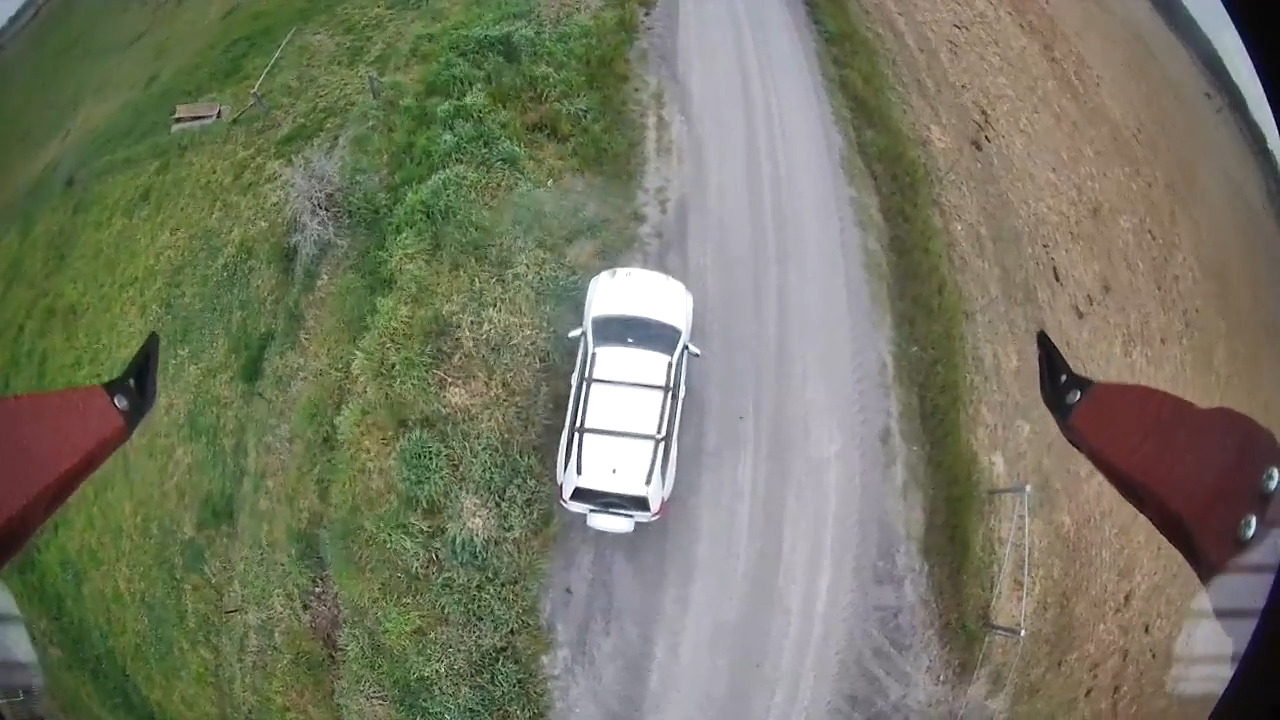Car: (555, 267, 700, 533)
